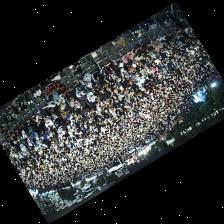person: (90, 58, 102, 82), (40, 110, 52, 129), (102, 61, 116, 75), (62, 87, 75, 101), (51, 114, 61, 131), (78, 72, 90, 86), (44, 101, 58, 113), (120, 51, 132, 64), (150, 41, 164, 52), (103, 71, 113, 86), (74, 79, 85, 92), (133, 45, 146, 56), (74, 87, 85, 99), (67, 96, 79, 107), (29, 112, 41, 123), (110, 68, 120, 81), (94, 82, 105, 93), (54, 96, 64, 108), (26, 126, 34, 141), (132, 55, 143, 65), (147, 51, 157, 62), (85, 99, 95, 110), (119, 66, 128, 78), (85, 80, 94, 92), (85, 89, 94, 101), (60, 103, 69, 115), (156, 34, 166, 44), (151, 48, 160, 59), (20, 121, 28, 133), (129, 66, 139, 75), (164, 32, 174, 41), (138, 59, 147, 69), (102, 91, 110, 102), (149, 66, 158, 75), (45, 130, 52, 141), (10, 131, 16, 143), (93, 90, 102, 98), (114, 57, 122, 66), (139, 68, 148, 76), (123, 63, 133, 70), (4, 137, 12, 145), (182, 27, 191, 34), (168, 41, 178, 47), (172, 28, 178, 38), (78, 100, 84, 108), (131, 63, 136, 72), (154, 60, 162, 65)
